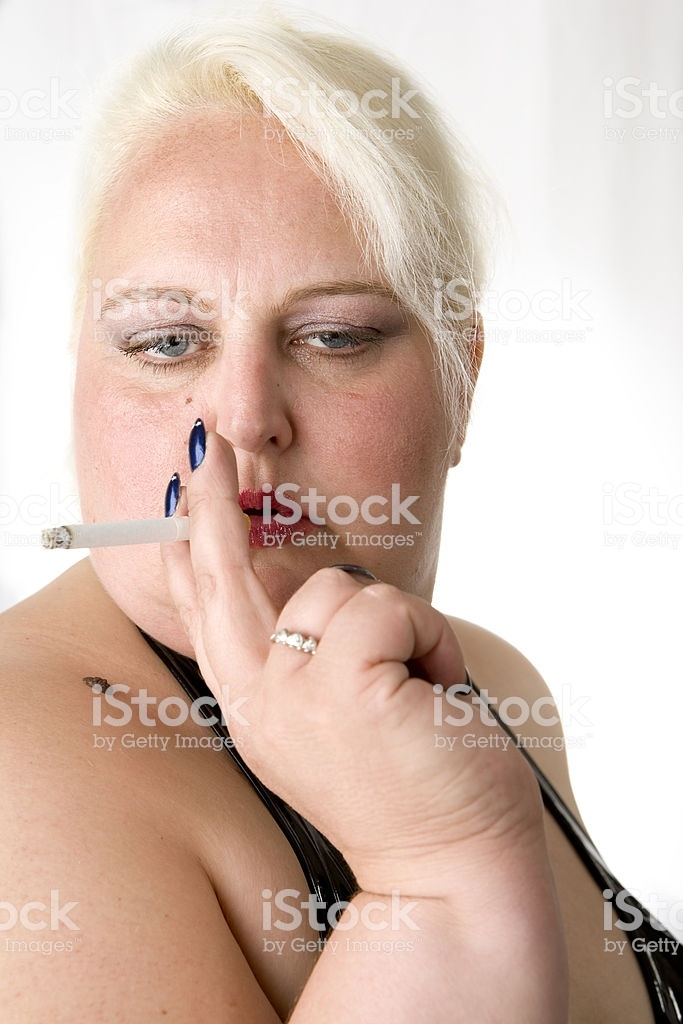sigaretta: (34, 514, 242, 556)
